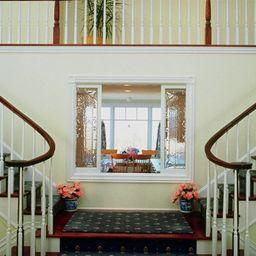Escaleras: (15, 167, 252, 255), (4, 101, 59, 230), (201, 113, 252, 232)
Matera: (54, 182, 85, 211), (172, 184, 196, 214)
Ventana: (76, 81, 191, 179)
